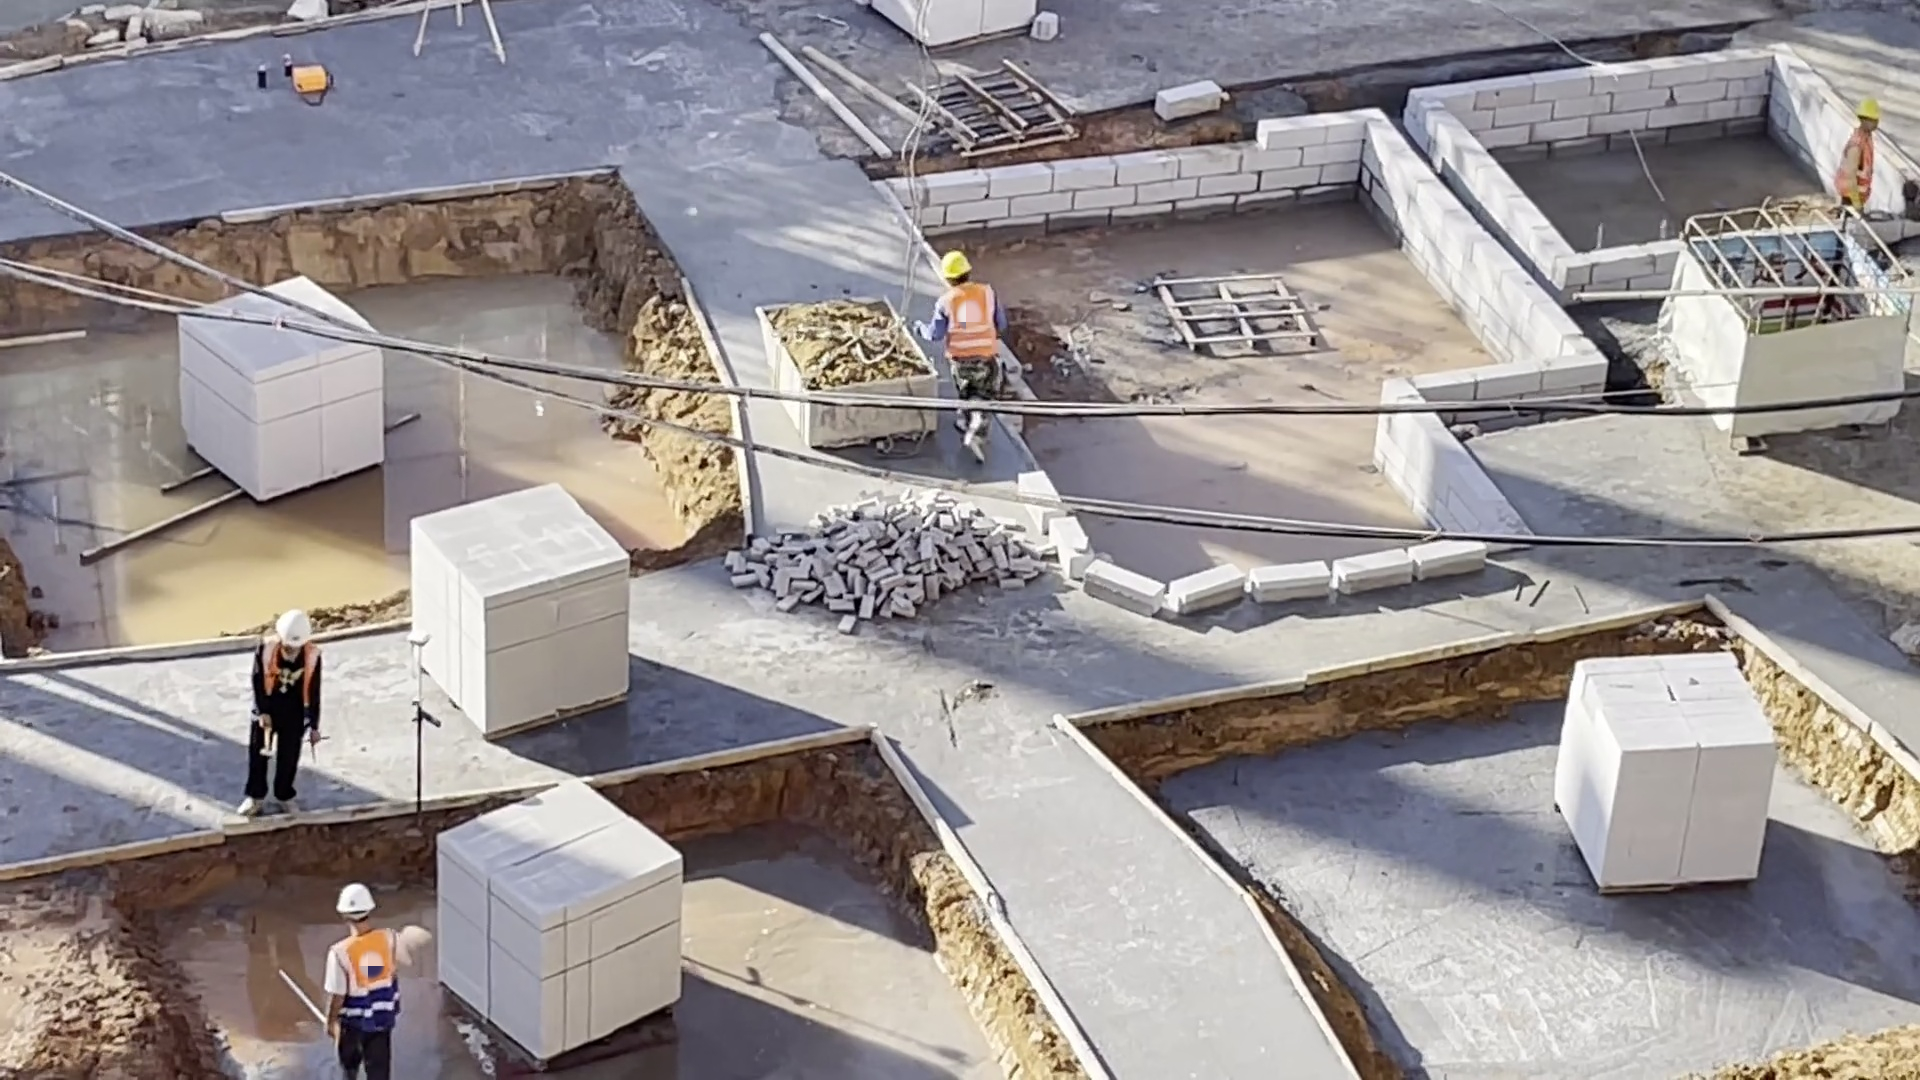brick: (432, 779, 682, 1057), (406, 478, 632, 732), (1556, 654, 1780, 893), (172, 345, 387, 506), (855, 1, 1034, 57)
helmet: (334, 883, 380, 917), (275, 609, 315, 647), (938, 249, 975, 277), (1851, 98, 1882, 119)
hopper: (756, 293, 936, 397)
person: (912, 249, 999, 456), (317, 880, 406, 1080), (244, 606, 326, 817), (1838, 98, 1885, 217)
vest: (329, 928, 404, 1032), (937, 285, 998, 358), (259, 640, 319, 705), (1836, 129, 1877, 201)
